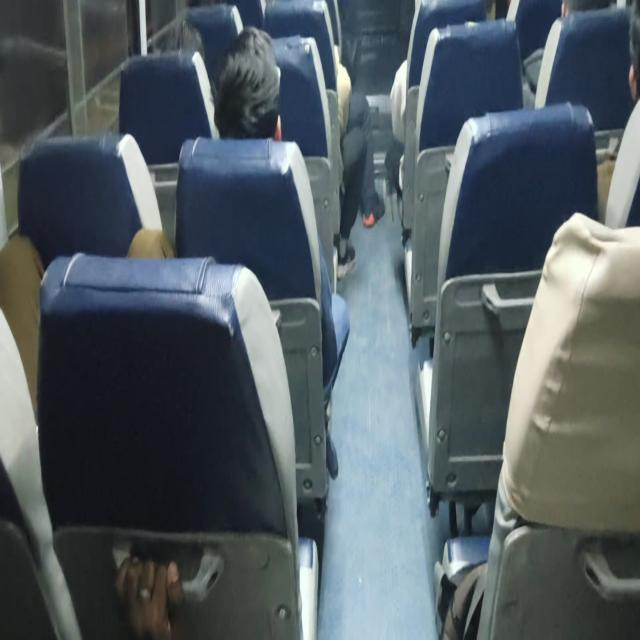person: (225, 34, 280, 148), (158, 12, 199, 65)
